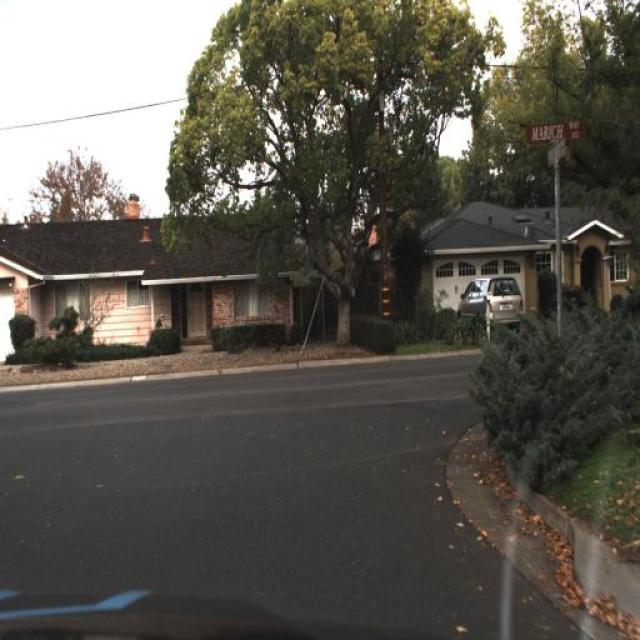car: (454, 275, 527, 333)
